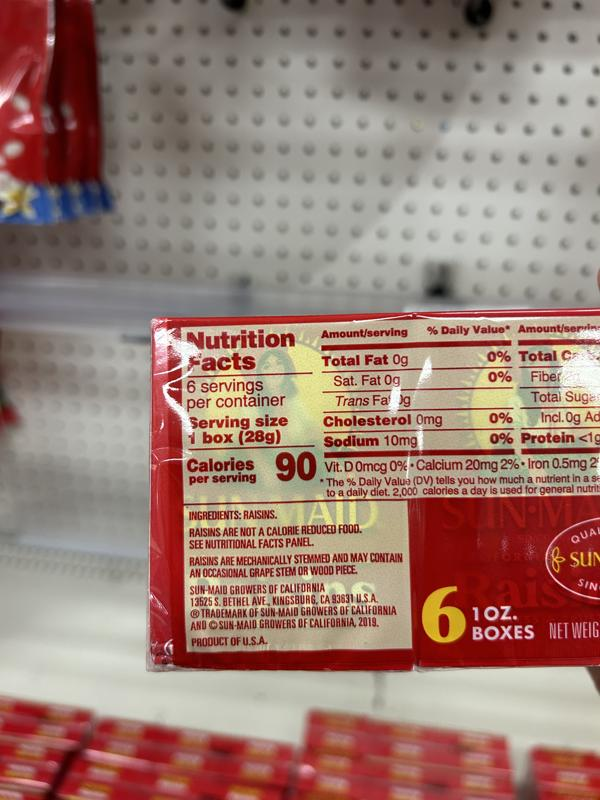ingredients: (187, 508, 282, 523)
